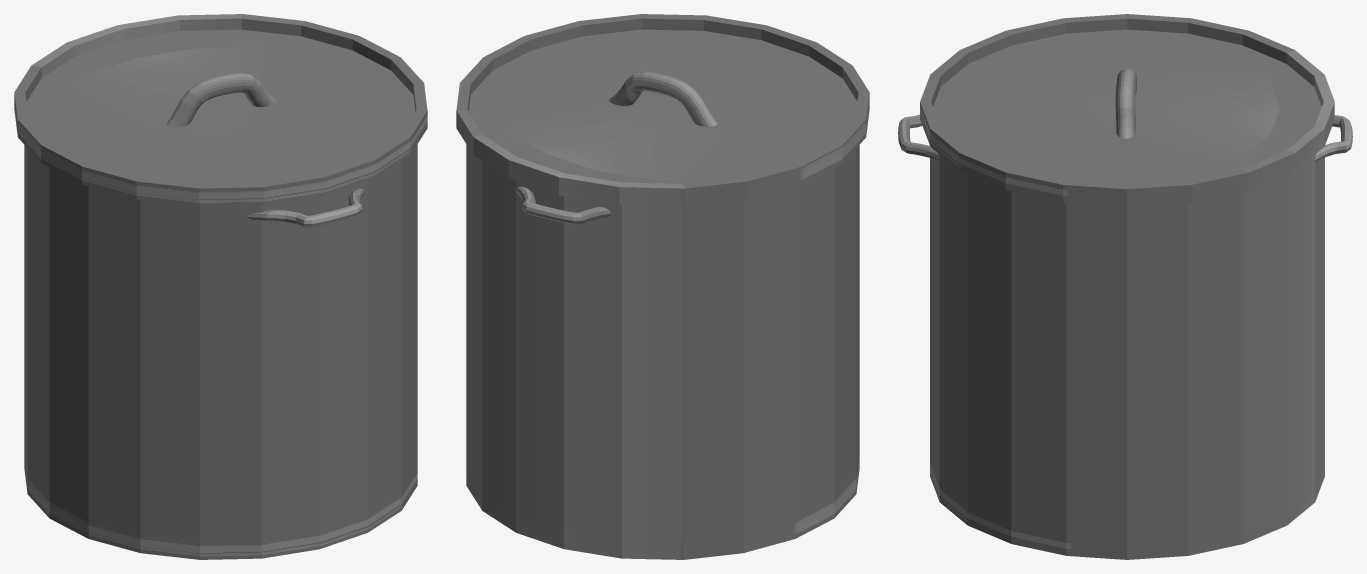
Rendered from Cooking pot.glb.
3 renders of one model, left to right at view 1: azimuth 30°, elevation 25°; view 2: azimuth 150°, elevation 25°; view 3: azimuth 270°, elevation 25°, orthographic.
Parts seen in each view (by area): view 1: Cylinder.002; view 2: Cylinder.002; view 3: Cylinder.002.
Boxes of the visible parts, x1,y1,x2,y2 form: Cylinder.002: (14,14,427,559); Cylinder.002: (456,14,869,559); Cylinder.002: (898,14,1352,559).
Bounding box in the file's own units: 2.1 × 2.24 × 2.3.
1 material, 1 textured.
